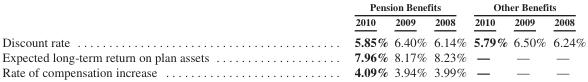table: (1, 0, 585, 78)
table column: (1, 0, 281, 78), (281, 0, 391, 78), (469, 0, 510, 78), (429, 0, 469, 78), (510, 0, 549, 78), (391, 0, 429, 78), (549, 0, 585, 78)
table column header: (1, 0, 585, 30)
table row: (1, 30, 585, 48), (1, 14, 585, 30), (1, 48, 585, 63), (1, 63, 585, 78), (1, 0, 585, 14)
table spanning cell: (281, 0, 469, 14), (469, 0, 585, 14)
